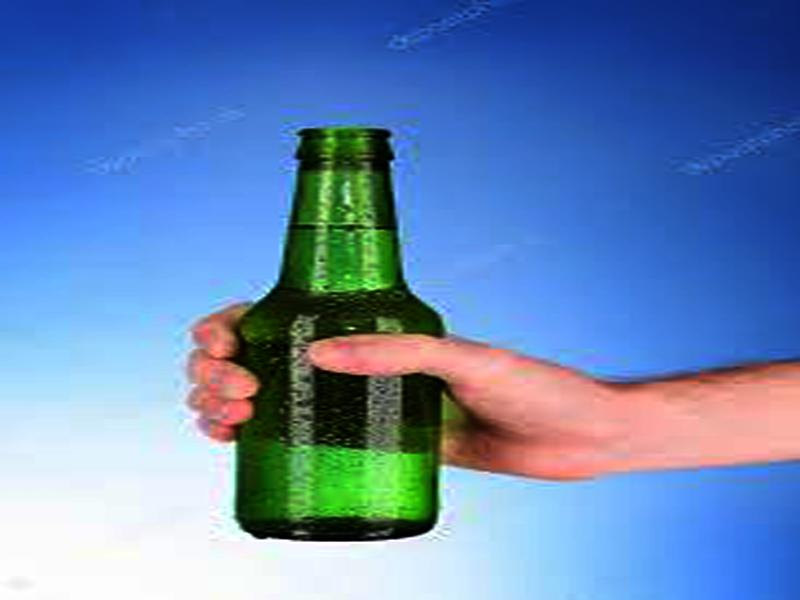Beer: (240, 127, 437, 541)
